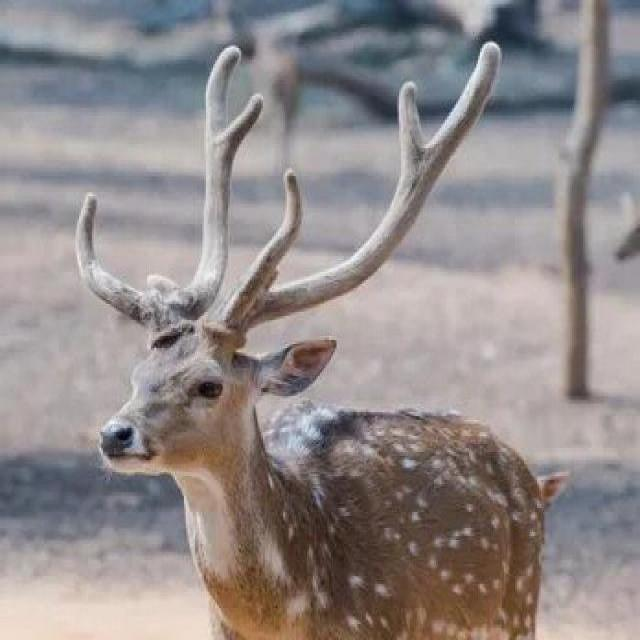deer: (45, 21, 618, 640)
